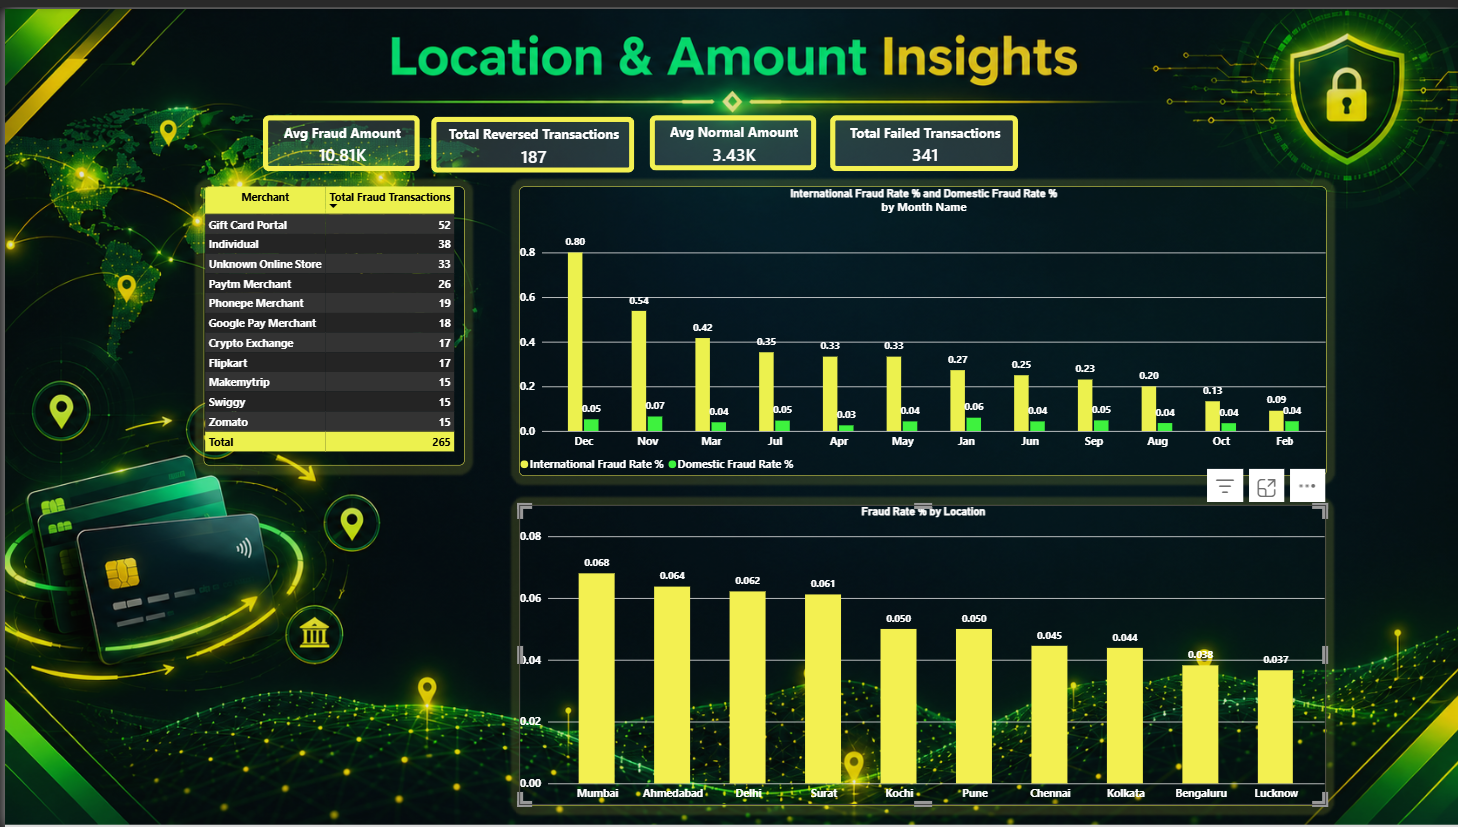

The page's visual inventory and layout, read from the dashboard file:
{"tool":"powerbi","page":{"name":"Location & Amount Insights","canvas":[1920,1080],"ordinal":2},"visuals":[{"type":"cardVisual","fields":{"Data":["Transactions.Avg Fraud Amount"]},"box":[339,140,207.8,74.4],"z":0},{"type":"cardVisual","fields":{"Data":["Transactions.Total Reversed Transactions"]},"box":[561,141,268,74],"z":1000},{"type":"cardVisual","fields":{"Data":["Transactions.Total Failed Transactions"]},"box":[1087,140,248,74],"z":2000},{"type":"cardVisual","fields":{"Data":["Transactions.Avg Normal Amount"]},"box":[849.1,140.9,220.9,73.6],"z":3000},{"type":"tableEx","fields":{"Values":["Transactions.Merchant","Transactions.Total Fraud Transactions"]},"box":[262,234,344,368],"z":4000},{"type":"clusteredColumnChart","fields":{"Category":["Date Table.Month Name"],"Y":["Transactions.International Fraud Rate %","Transactions.Domestic Fraud Rate %"]},"box":[678,234,1066,382],"z":5000},{"type":"columnChart","fields":{"Category":["Transactions.Location"],"Y":["Transactions.Fraud Rate %"]},"box":[678.3,653.3,1065,396.7],"z":6000}]}

Visuals, with their boxes in screenshot pixels (x1, y1, x2, y2), scaled from the page's 1920x1080 canvas onto the 1458x827 screenshot:
cardVisual - Transactions.Avg Fraud Amount: [257,107,415,164]
cardVisual - Transactions.Total Reversed Transactions: [426,108,630,165]
cardVisual - Transactions.Total Failed Transactions: [825,107,1014,164]
cardVisual - Transactions.Avg Normal Amount: [645,108,813,164]
tableEx - Transactions.Merchant x Transactions.Total Fraud Transactions: [199,179,460,461]
clusteredColumnChart - Date Table.Month Name x Transactions.International Fraud Rate %: [515,179,1324,472]
columnChart - Transactions.Location x Transactions.Fraud Rate %: [515,500,1324,804]
